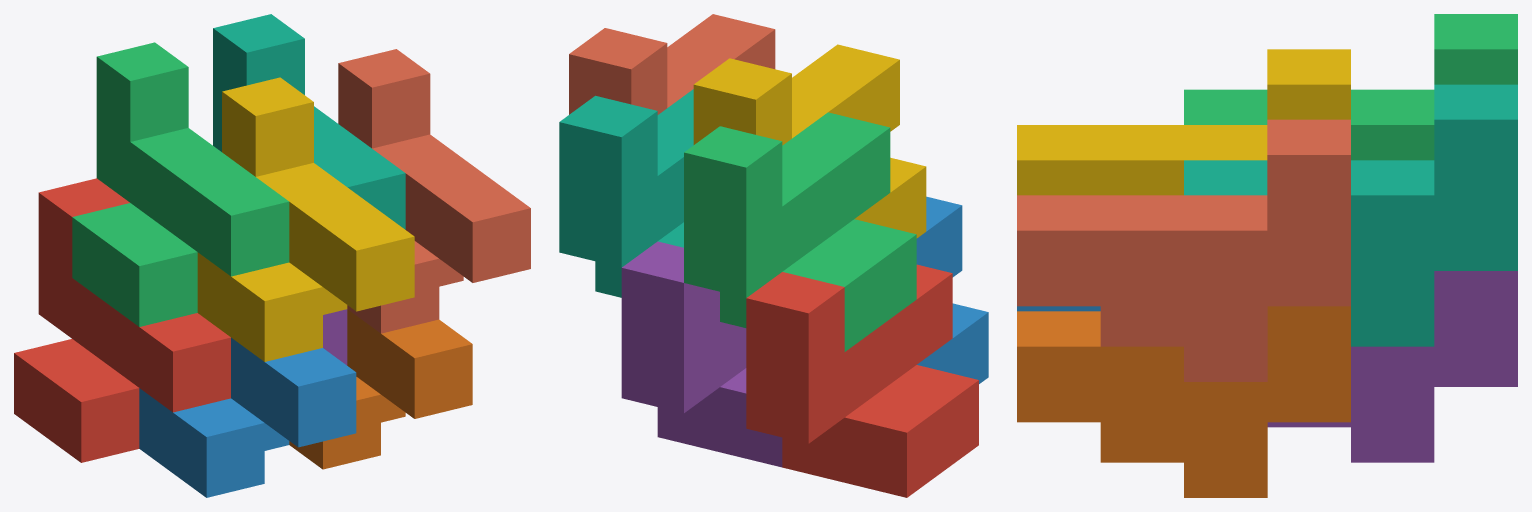
Rendered from tiling.obj.
3 renders of one model, left to right at view 1: azimuth 30°, elevation 25°; view 2: azimuth 150°, elevation 25°; view 3: azimuth 270°, elevation 25°, orthographic. The views are drawn at different scales.
Visible parts, largest first — view 1: copy_1_domain_3, copy_1_domain_4, copy_1_domain_1, copy_1_domain_8, copy_1_domain_2, copy_1_domain_6, copy_1_domain_7, copy_1_domain_5; view 2: copy_1_domain_1, copy_1_domain_3, copy_1_domain_5, copy_1_domain_7, copy_1_domain_4, copy_1_domain_8, copy_1_domain_2; view 3: copy_1_domain_8, copy_1_domain_6, copy_1_domain_7, copy_1_domain_4, copy_1_domain_5, copy_1_domain_3.
Boxes of the visible parts, left/top/right/bottom form: copy_1_domain_3: left=72, top=42, right=289, bottom=326; copy_1_domain_4: left=197, top=77, right=414, bottom=361; copy_1_domain_1: left=14, top=178, right=230, bottom=462; copy_1_domain_8: left=338, top=49, right=530, bottom=333; copy_1_domain_2: left=139, top=337, right=356, bottom=497; copy_1_domain_6: left=289, top=309, right=472, bottom=469; copy_1_domain_7: left=213, top=14, right=405, bottom=229; copy_1_domain_5: left=323, top=309, right=347, bottom=365; copy_1_domain_1: left=746, top=264, right=978, bottom=497; copy_1_domain_3: left=684, top=112, right=916, bottom=351; copy_1_domain_5: left=621, top=241, right=782, bottom=467; copy_1_domain_7: left=559, top=89, right=693, bottom=297; copy_1_domain_4: left=693, top=44, right=926, bottom=238; copy_1_domain_8: left=569, top=14, right=775, bottom=114; copy_1_domain_2: left=916, top=196, right=988, bottom=383; copy_1_domain_8: left=1017, top=119, right=1350, bottom=381; copy_1_domain_6: left=1017, top=306, right=1350, bottom=497; copy_1_domain_7: left=1184, top=84, right=1517, bottom=346; copy_1_domain_4: left=1017, top=49, right=1350, bottom=195; copy_1_domain_5: left=1267, top=271, right=1517, bottom=462; copy_1_domain_3: left=1184, top=14, right=1517, bottom=160.
Bounding box in the file's own units: 6 × 5 × 6.
